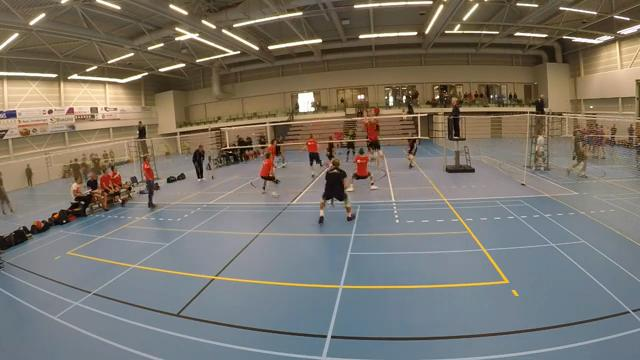Block: (360, 105, 382, 162)
Player: (318, 158, 354, 223), (346, 148, 377, 191), (260, 152, 279, 193), (306, 134, 321, 177), (275, 137, 286, 167), (346, 129, 355, 162), (407, 139, 416, 168), (326, 136, 334, 166), (264, 139, 276, 158), (334, 131, 342, 154)
